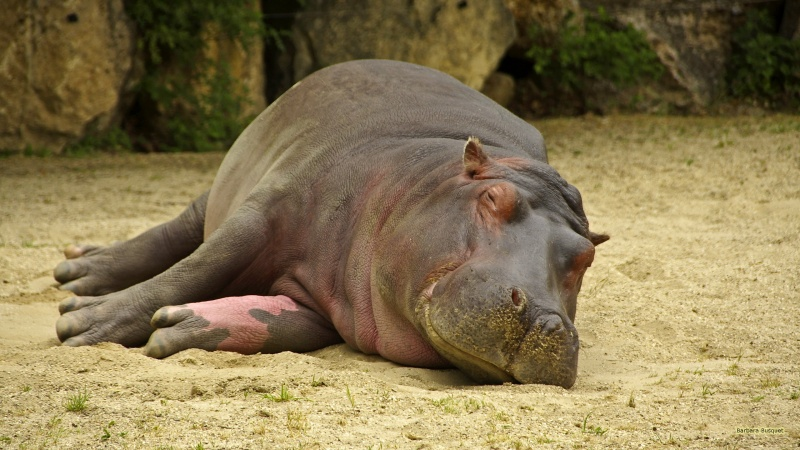hipopotamo: (55, 55, 608, 405)
